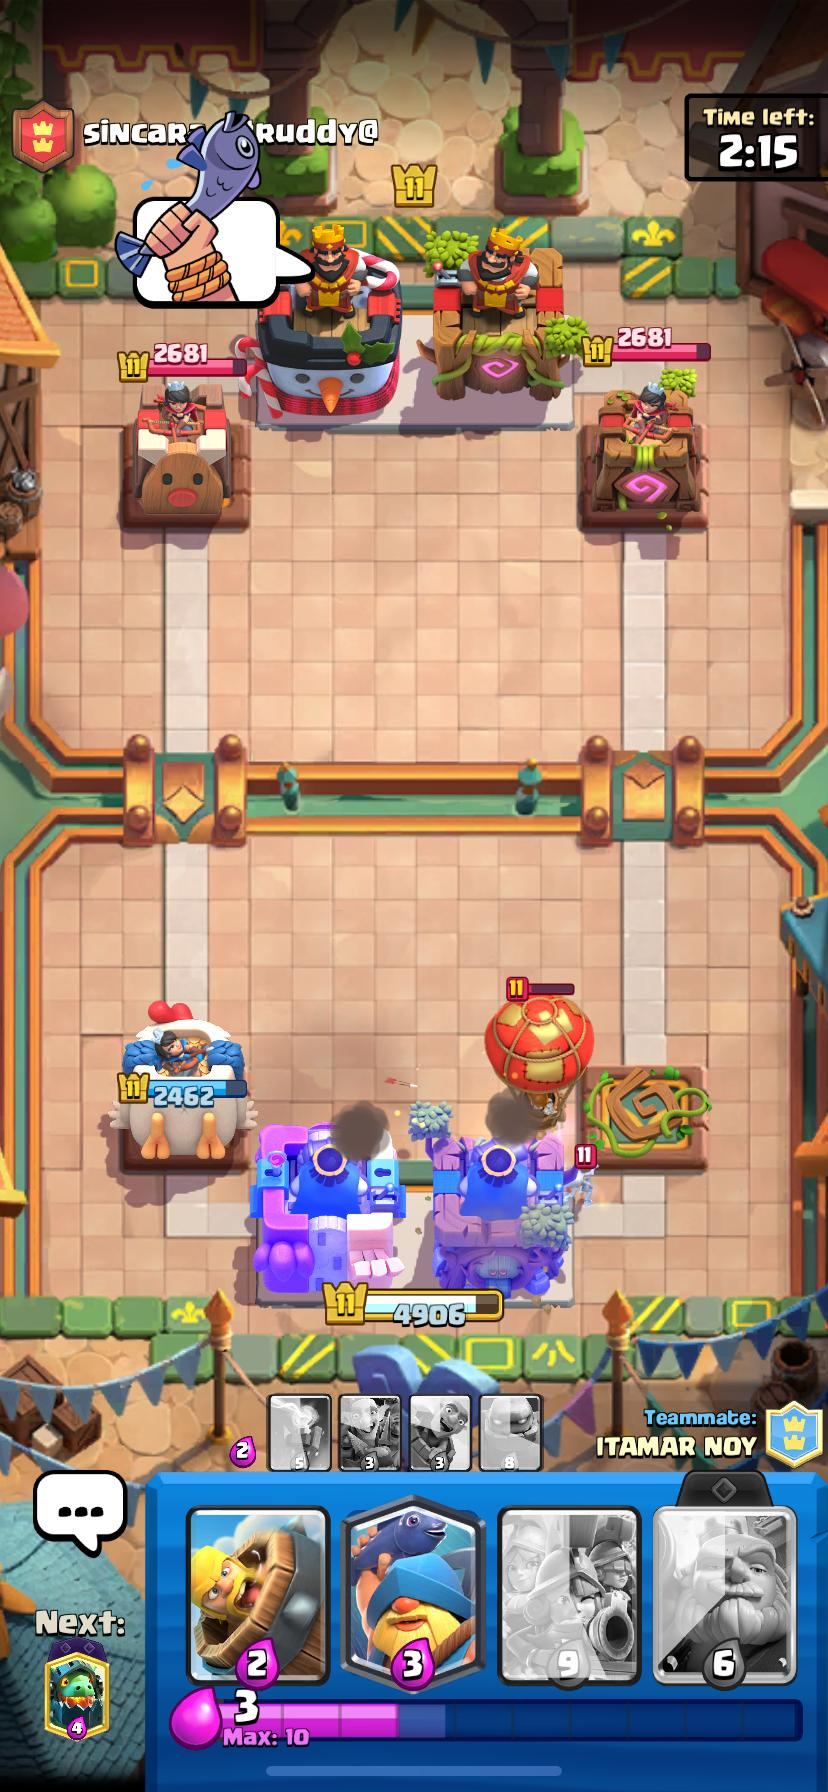EBalloon: (485, 997, 596, 1117)
EKingTower: (239, 223, 401, 425), (417, 227, 578, 401)
EnemyPrincessTower: (122, 383, 250, 528), (580, 386, 706, 529)
OwnKingTower: (250, 1123, 405, 1299), (425, 1133, 576, 1299)
OwnPrincessTower: (110, 1001, 254, 1161)
TowerDown: (582, 1065, 709, 1170)
